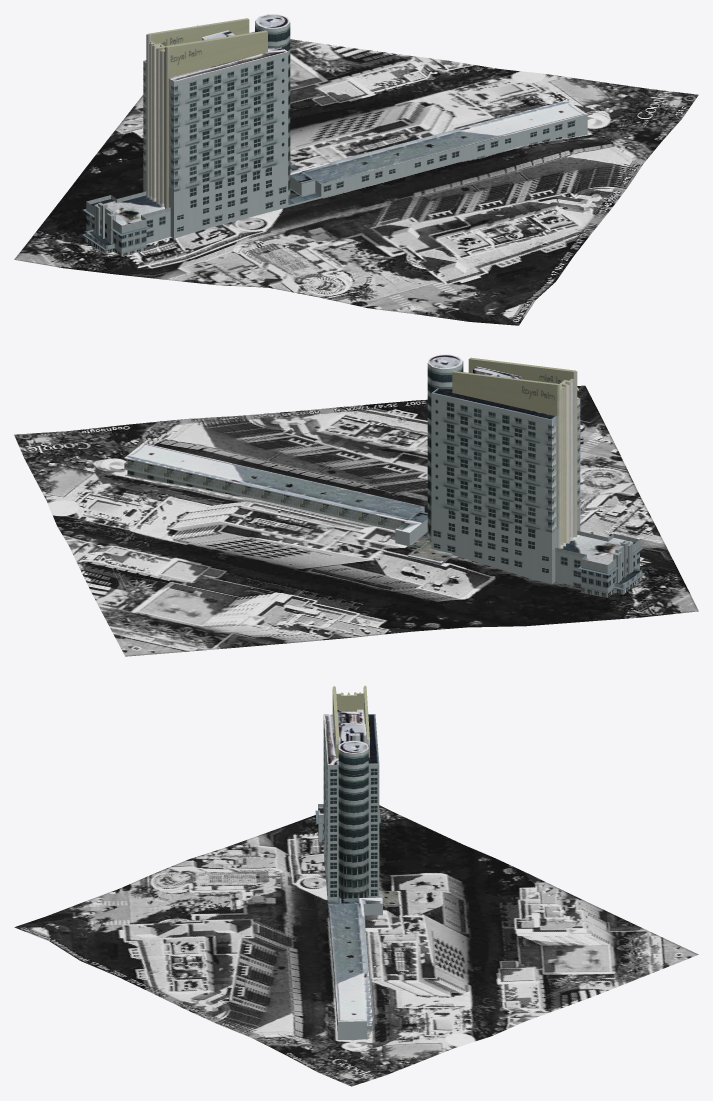
3 renders of one model, top to bottom at view 1: azimuth 30°, elevation 25°; view 2: azimuth 150°, elevation 25°; view 3: azimuth 270°, elevation 25°, orthographic. The views are drawn at different scales.
Parts seen in each view (by area): view 1: Google_Earth_Terrain, Model; view 2: Google_Earth_Terrain, Model; view 3: Google_Earth_Terrain, Model.
Part boxes in pixels (<box>): Google_Earth_Terrain: <box>14,25,698,325</box>; Model: <box>82,14,587,256</box>; Google_Earth_Terrain: <box>14,385,698,656</box>; Model: <box>124,354,644,597</box>; Google_Earth_Terrain: <box>14,805,698,1086</box>; Model: <box>315,685,401,1040</box>.
Size of the model in its own units: 202 by 56.9 by 200.
